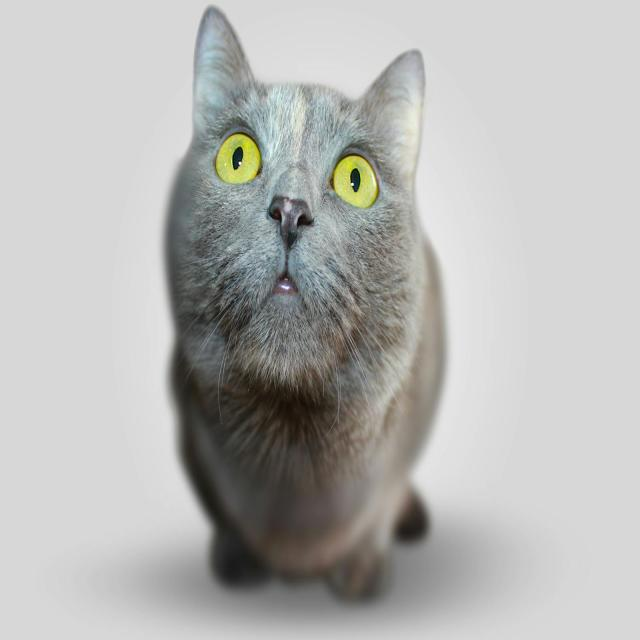Cat: (162, 4, 448, 602)
